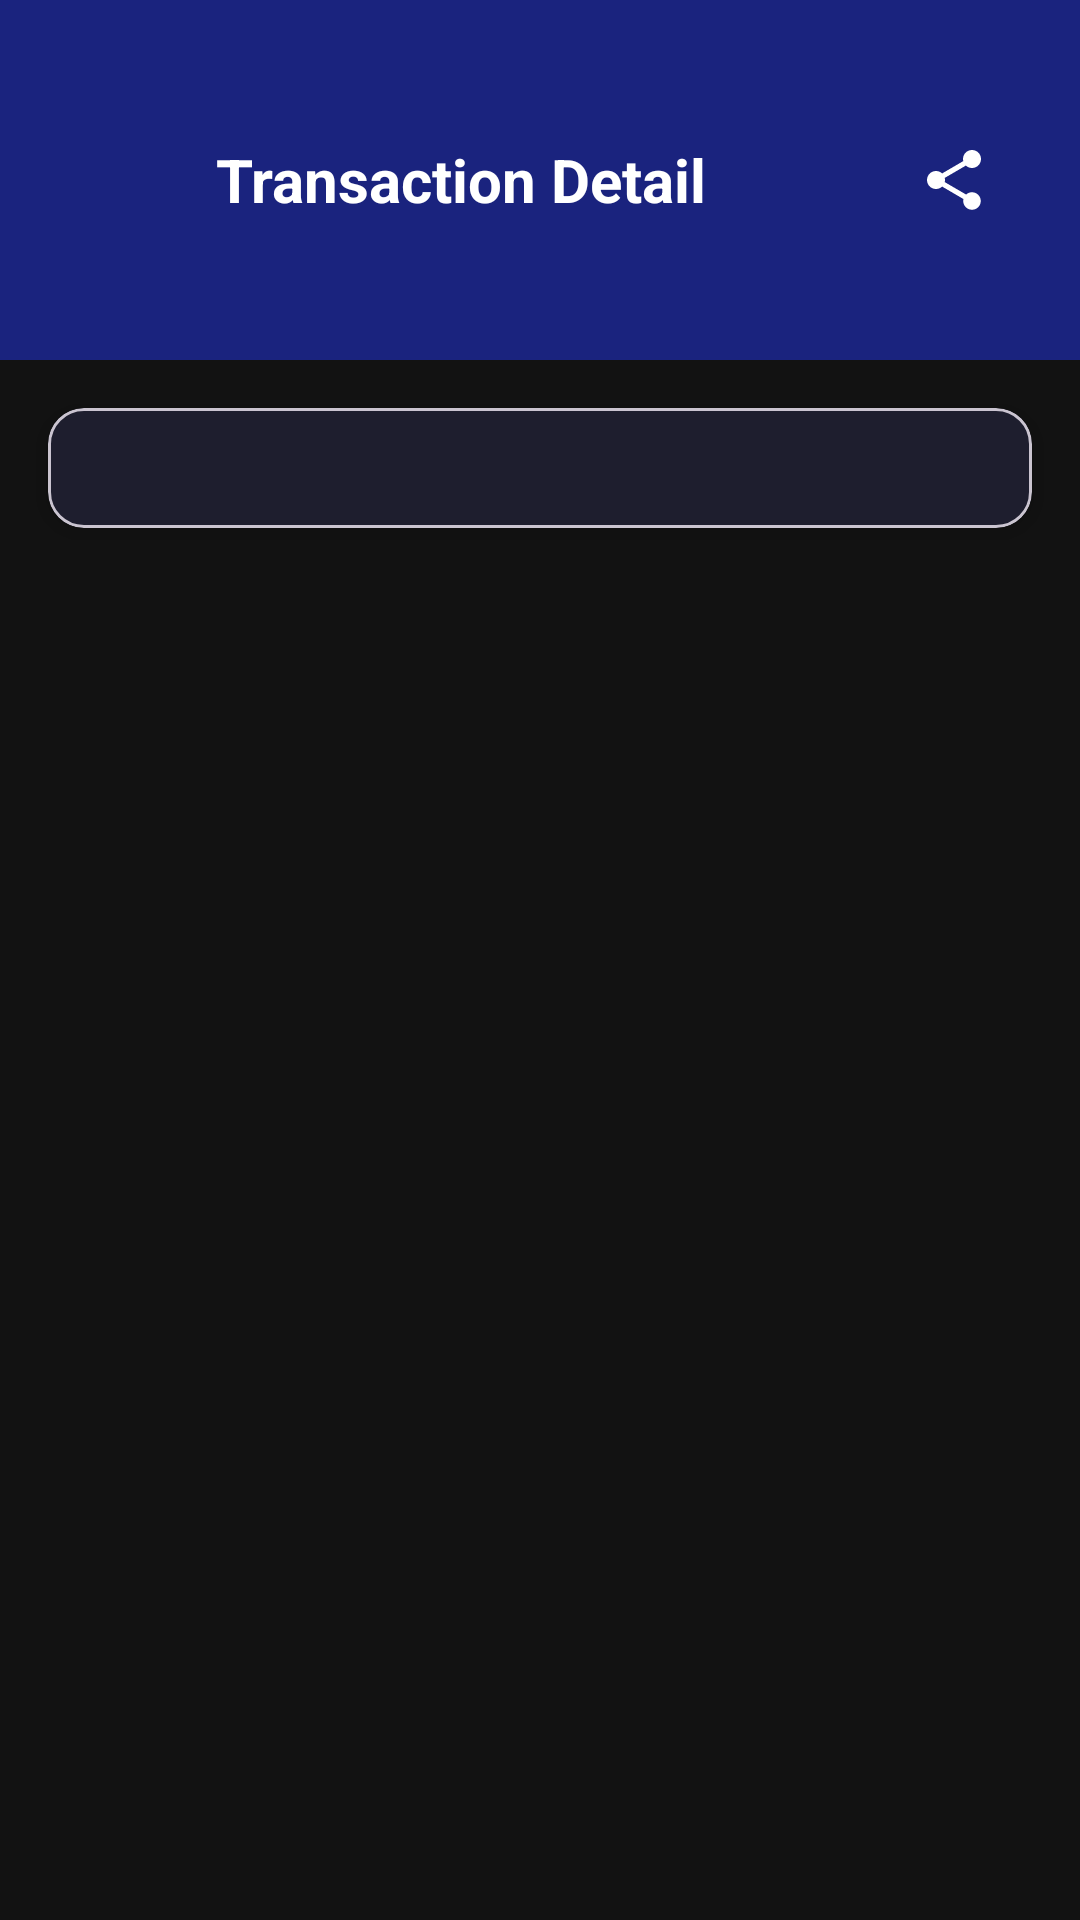

Where to tap for icons on this 1080px x 1920px app screen, as [x,y]:
Share: [954,180]
